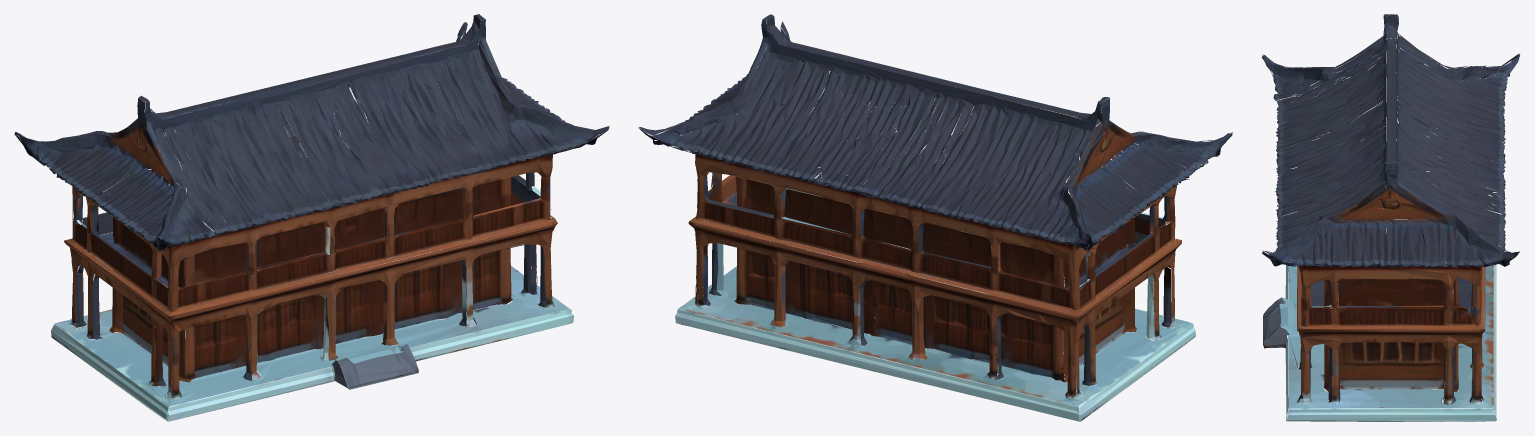
File: 14_ancient_street_hall.glb
3 views of the same model, side by side, from view 1: azimuth 30°, elevation 25°; view 2: azimuth 150°, elevation 25°; view 3: azimuth 270°, elevation 25° (orthographic). The views are drawn at different scales.
Parts seen in each view (by area): view 1: 14_ancient_street_hall.ply; view 2: 14_ancient_street_hall.ply; view 3: 14_ancient_street_hall.ply.
Boxes of the visible parts, x1,y1,x2,y2 form: 14_ancient_street_hall.ply: (14,14,609,421); 14_ancient_street_hall.ply: (638,14,1232,421); 14_ancient_street_hall.ply: (1261,14,1519,421).
Size of the model in its own units: 1 by 0.578 by 0.5531.
1 material, 1 textured.
